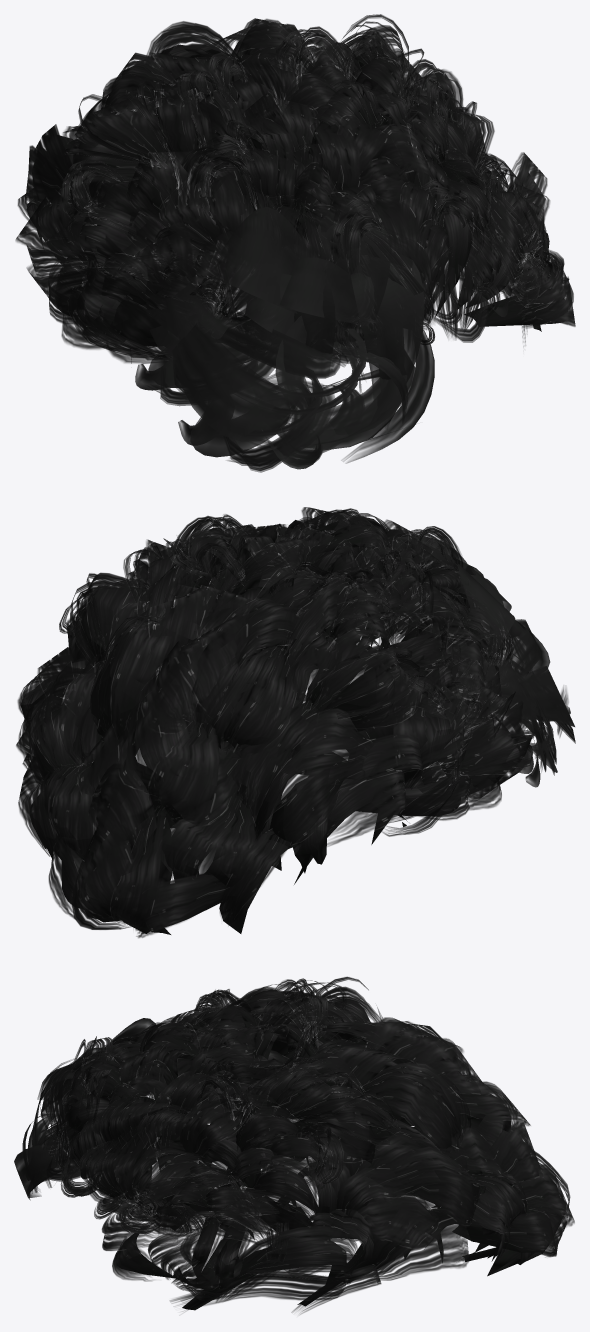
Rendered from Oval_Curly_02_real.glb.
3 renders of one model, top to bottom at view 1: azimuth 30°, elevation 25°; view 2: azimuth 150°, elevation 25°; view 3: azimuth 270°, elevation 25°, orthographic. The views are drawn at different scales.
Visible parts, largest first — view 1: oval curly 02 side part_; view 2: oval curly 02 side part_; view 3: oval curly 02 side part_.
Part boxes in pixels (box(x1,y1,x2,y2)): oval curly 02 side part_: box(15, 14, 575, 472); oval curly 02 side part_: box(16, 507, 575, 938); oval curly 02 side part_: box(14, 976, 574, 1314).
Size of the model in its own units: 0.1888 by 0.1229 by 0.2425.
Materials: 1 (1 with a texture image).
